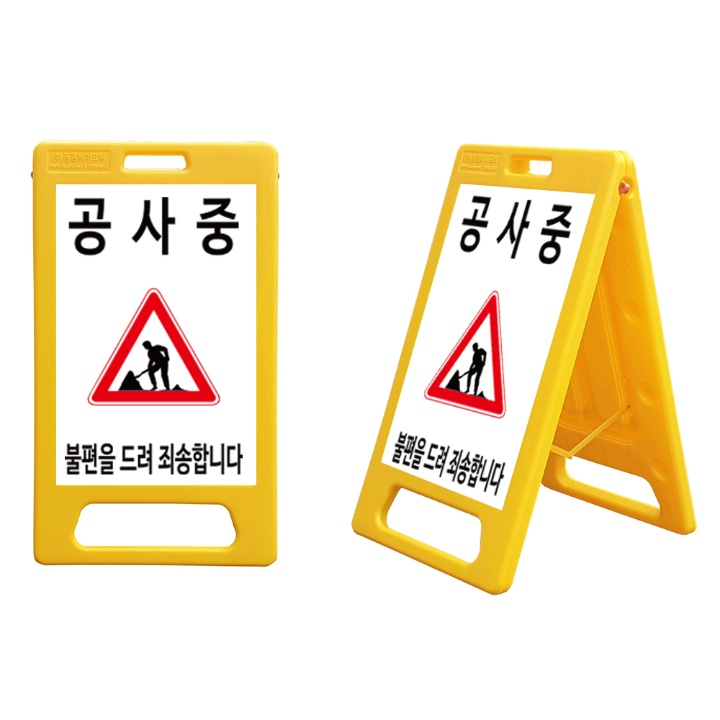const: (114, 339, 195, 394), (439, 333, 497, 401)
